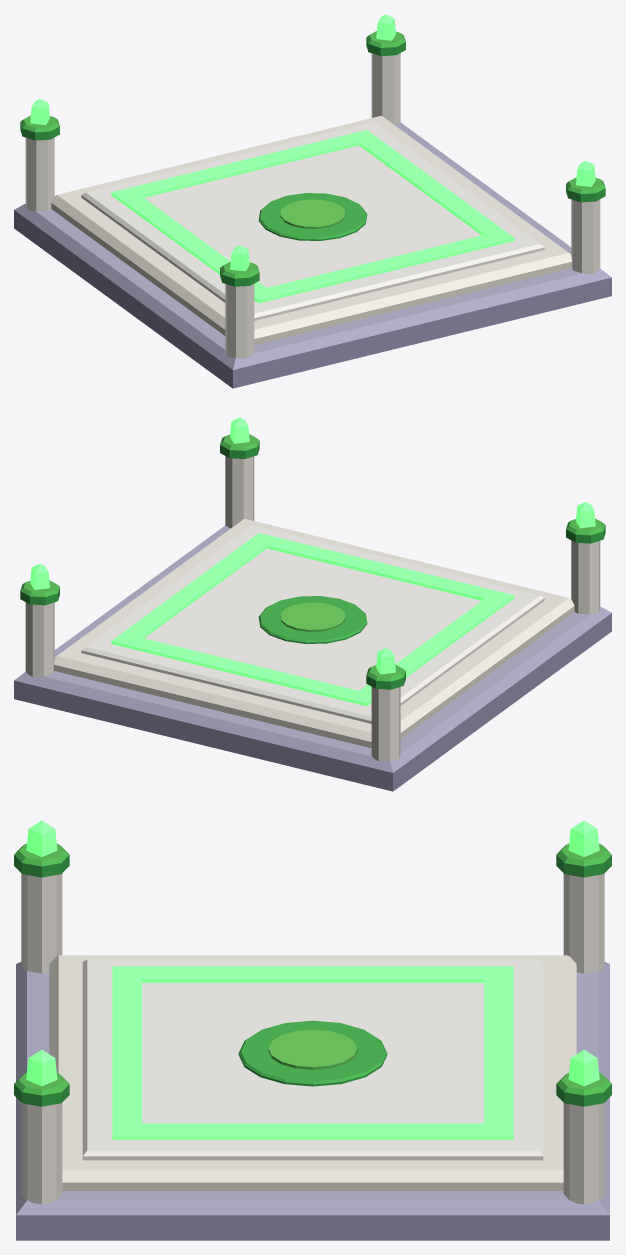
The model's file is Pad_3.glb.
3 renders of one model, top to bottom at view 1: azimuth 30°, elevation 25°; view 2: azimuth 150°, elevation 25°; view 3: azimuth 270°, elevation 25°, orthographic. The views are drawn at different scales.
Visible parts, largest first — view 1: Pad_3, Pad_3_Glow_acc3; view 2: Pad_3, Pad_3_Glow_acc3; view 3: Pad_3, Pad_3_Glow_acc3.
Part boxes in pixels (bbox=[...]): Pad_3: bbox=[14, 31, 611, 388]; Pad_3_Glow_acc3: bbox=[30, 14, 595, 303]; Pad_3: bbox=[14, 434, 611, 791]; Pad_3_Glow_acc3: bbox=[30, 417, 595, 706]; Pad_3: bbox=[14, 843, 611, 1240]; Pad_3_Glow_acc3: bbox=[26, 820, 599, 1139].
Bounding box in the file's own units: 16.1 × 5.35 × 16.1.
2 materials, 1 textured.
